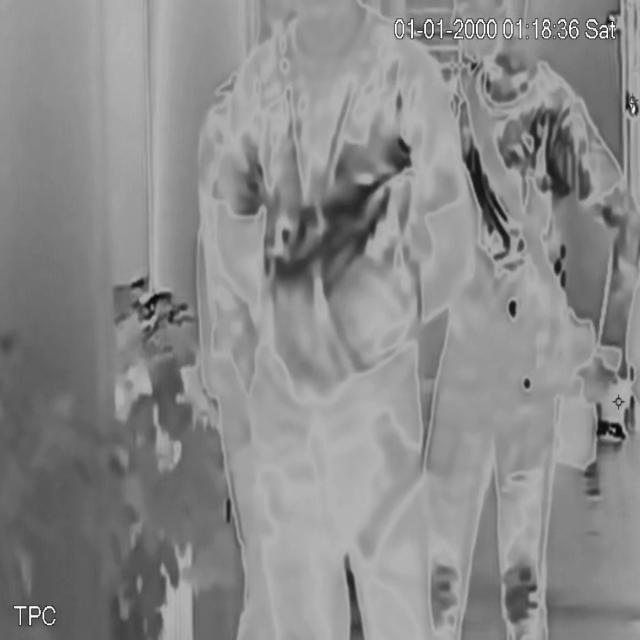Weapon: (325, 403, 443, 563)
